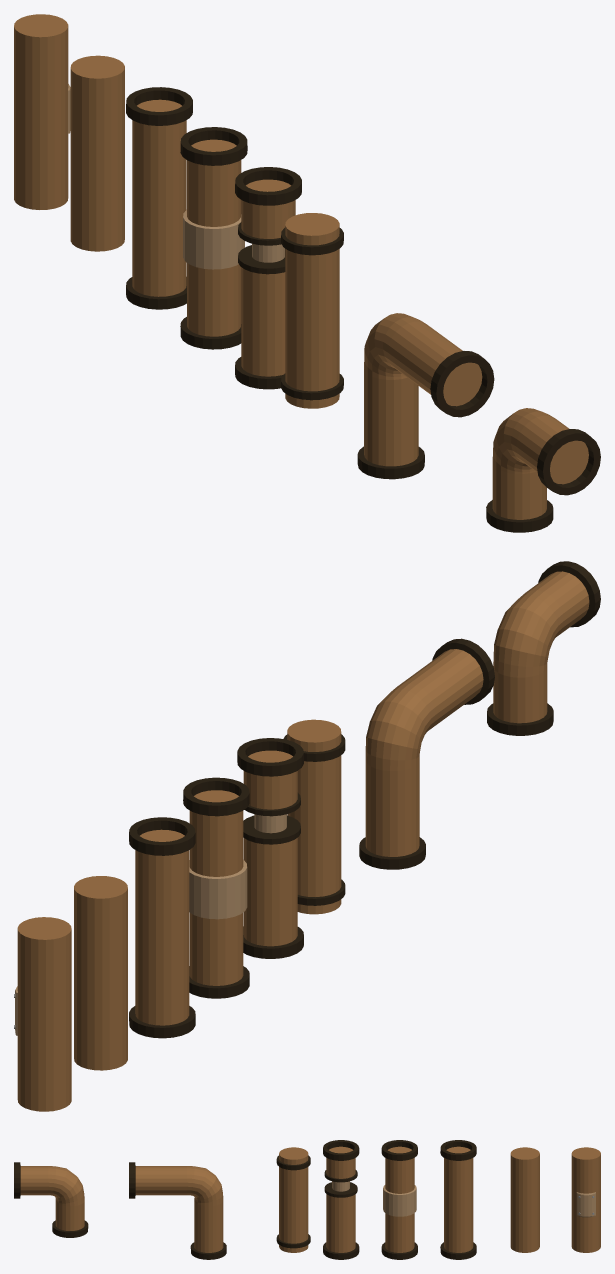
The model's file is Pipes2.fbx.
3 renders of one model, top to bottom at view 1: azimuth 30°, elevation 25°; view 2: azimuth 150°, elevation 25°; view 3: azimuth 270°, elevation 25°, orthographic. The views are drawn at different scales.
Parts seen in each view (by area): view 1: Pipe.012, Pipe.014, Pipe.015, Pipe.013, Pipe.009, Pipe.017, Pipe.016, Pipe.011; view 2: Pipe.012, Pipe.015, Pipe.014, Pipe.009, Pipe.011, Pipe.017, Pipe.016, Pipe.013; view 3: Pipe.012, Pipe.014, Pipe.009, Pipe.015, Pipe.011, Pipe.013, Pipe.016, Pipe.017.
Part boxes in pixels (x1,y1,x2,y2): Pipe.012: [357, 313, 494, 479]; Pipe.014: [180, 127, 247, 349]; Pipe.015: [126, 87, 192, 309]; Pipe.013: [281, 213, 343, 408]; Pipe.009: [235, 167, 301, 389]; Pipe.017: [14, 14, 70, 209]; Pipe.016: [70, 55, 124, 251]; Pipe.011: [486, 408, 600, 532]; Pipe.012: [359, 638, 494, 869]; Pipe.015: [129, 817, 195, 1038]; Pipe.014: [183, 777, 249, 998]; Pipe.009: [237, 738, 303, 958]; Pipe.011: [487, 561, 600, 735]; Pipe.017: [14, 917, 71, 1111]; Pipe.016: [74, 876, 127, 1070]; Pipe.013: [283, 719, 345, 914]; Pipe.012: [129, 1162, 226, 1259]; Pipe.014: [381, 1140, 417, 1259]; Pipe.009: [323, 1140, 359, 1259]; Pipe.015: [440, 1140, 476, 1259]; Pipe.011: [14, 1162, 88, 1237]; Pipe.013: [276, 1147, 310, 1252]; Pipe.016: [510, 1147, 539, 1252]; Pipe.017: [571, 1147, 600, 1252].
Size of the model in its own units: 24.72 by 78.63 by 399.
